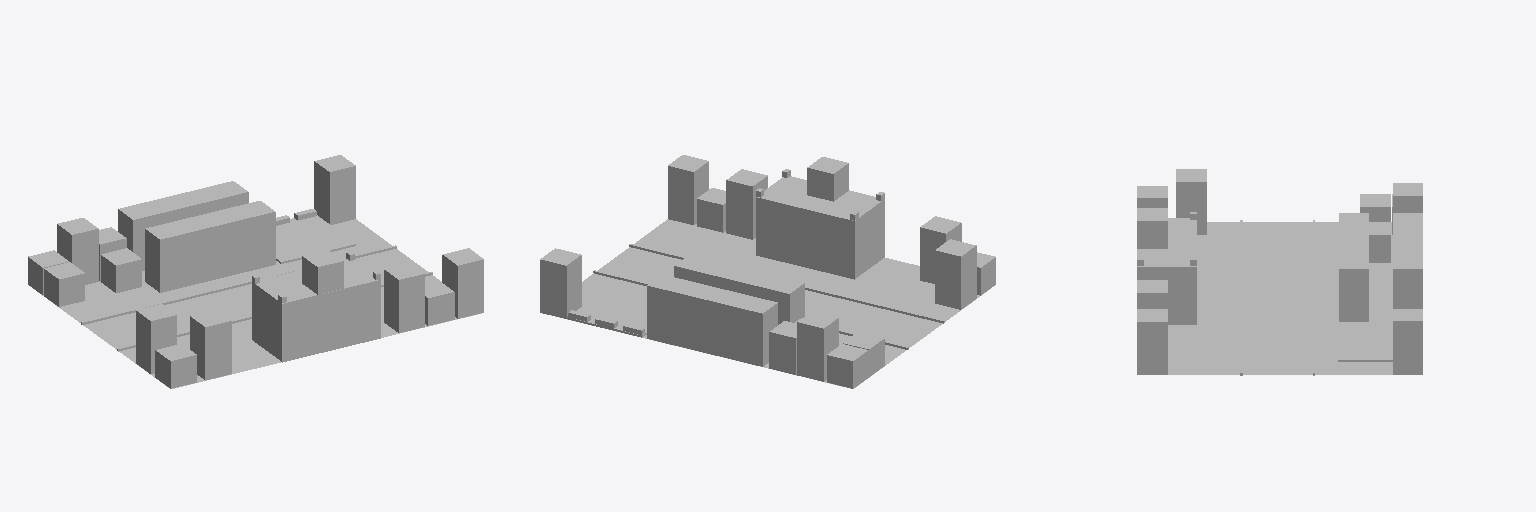
File: city.obj
The picture shows the model from 3 angles: view 1: azimuth 30°, elevation 25°; view 2: azimuth 150°, elevation 25°; view 3: azimuth 270°, elevation 25°; orthographic projection.
Visible parts, largest first — view 1: 立方体.007; view 2: 立方体.007; view 3: 立方体.007.
Part boxes in pixels (left/top/right/bottom): 立方体.007: left=28, top=155, right=483, bottom=388; 立方体.007: left=540, top=155, right=995, bottom=388; 立方体.007: left=1137, top=169, right=1422, bottom=375.
Bounding box in the file's own units: 23.81 × 6.24 × 18.76.